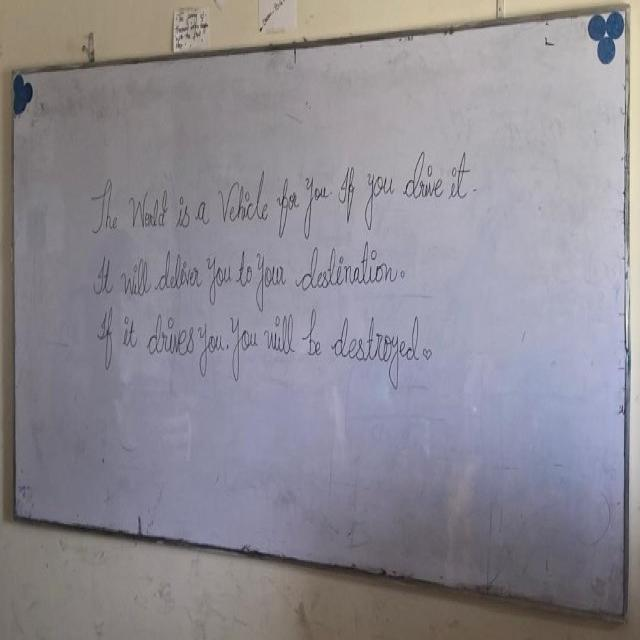White-board: (12, 9, 630, 613)
